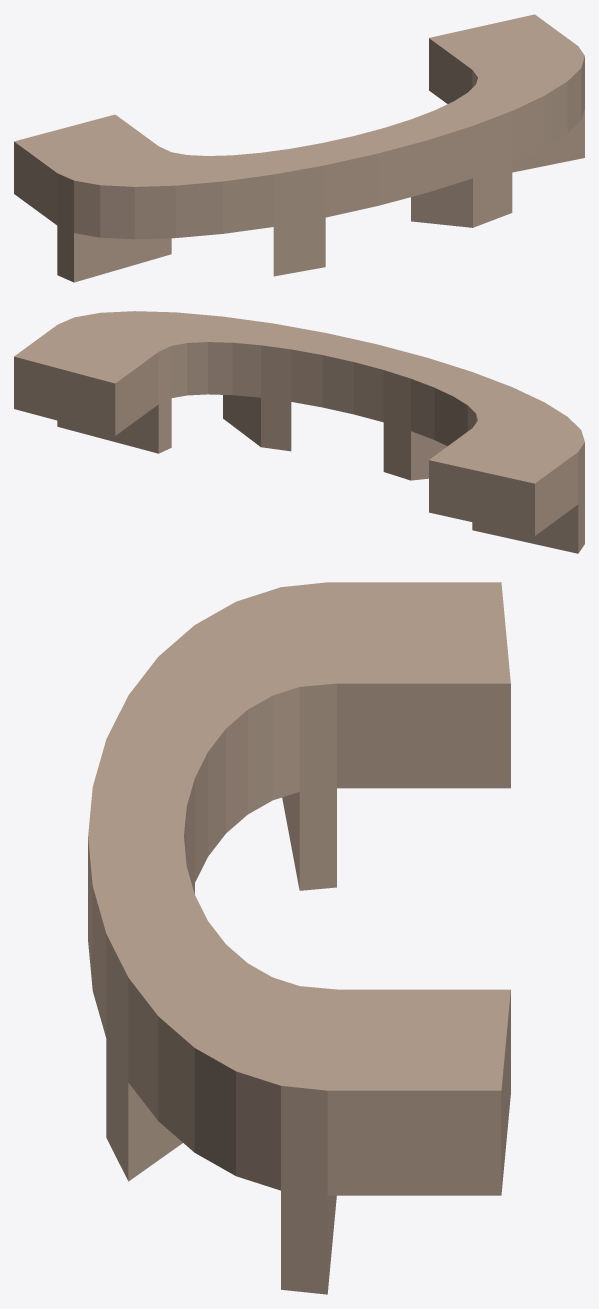
Rendered from danışma 1.fbx.
3 renders of one model, top to bottom at view 1: azimuth 30°, elevation 25°; view 2: azimuth 150°, elevation 25°; view 3: azimuth 270°, elevation 25°, orthographic. The views are drawn at different scales.
Parts seen in each view (by area): view 1: Cylinder.039; view 2: Cylinder.039; view 3: Cylinder.039.
Boxes of the visible parts, x1,y1,x2,y2 form: Cylinder.039: (14,14,584,282); Cylinder.039: (14,311,584,553); Cylinder.039: (88,582,510,1294).
Bounding box in the file's own units: 502 × 93.94 × 176.
